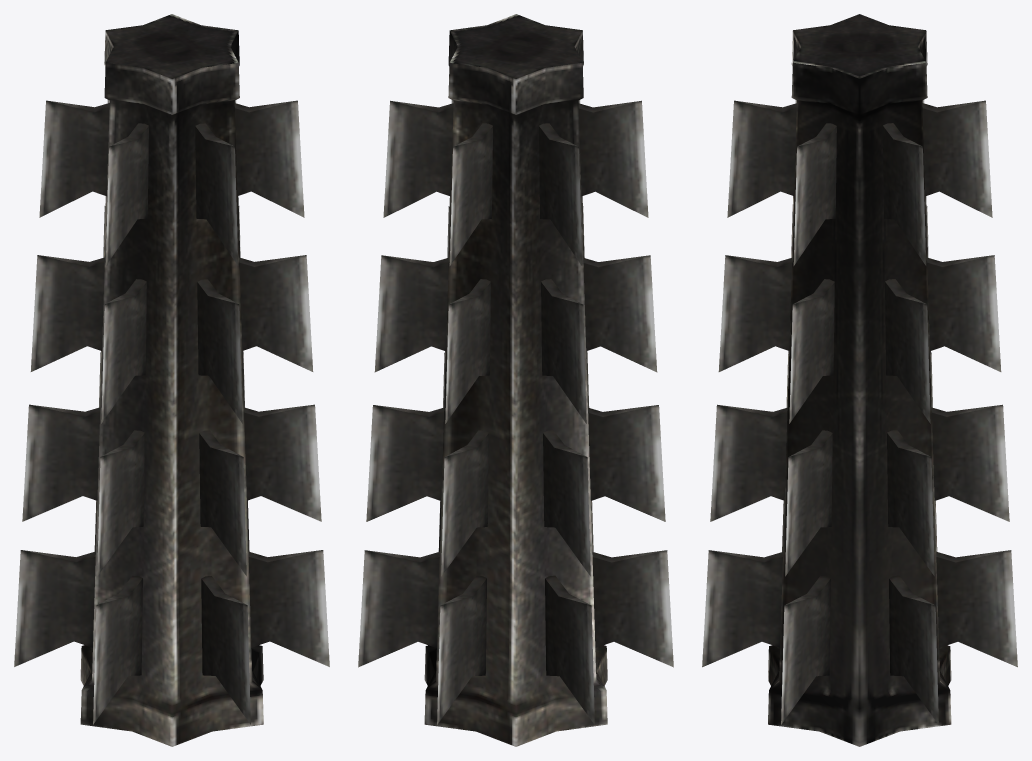
Rendered from Dabang_body.FBX.
3 renders of one model, left to right at view 1: azimuth 30°, elevation 25°; view 2: azimuth 150°, elevation 25°; view 3: azimuth 270°, elevation 25°, orthographic.
Parts seen in each view (by area): view 1: Dabang_body; view 2: Dabang_body; view 3: Dabang_body.
Part boxes in pixels (x1,y1,x2,y2): Dabang_body: [14, 14, 329, 746]; Dabang_body: [358, 14, 673, 746]; Dabang_body: [702, 14, 1017, 746].
Bounding box in the file's own units: 17.35 × 45.91 × 20.04.
Materials: 1 (1 with a texture image).
